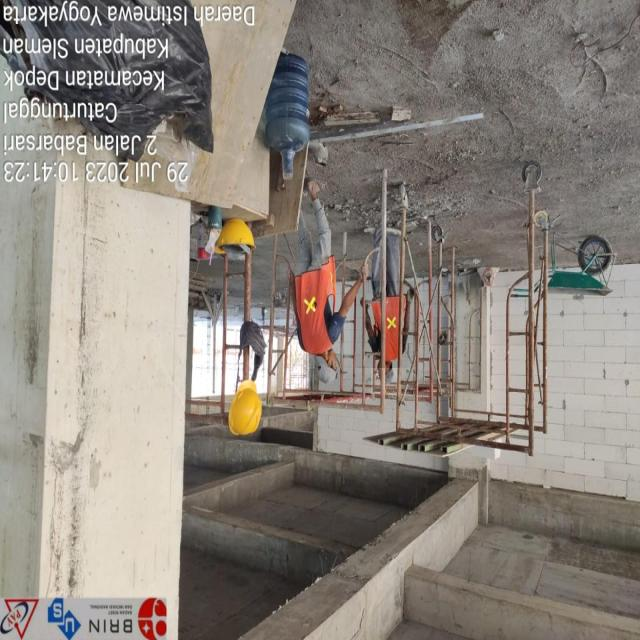Helmet: (306, 343, 340, 391), (371, 354, 400, 396)
Safety Vest: (280, 263, 350, 354), (355, 281, 414, 368)
